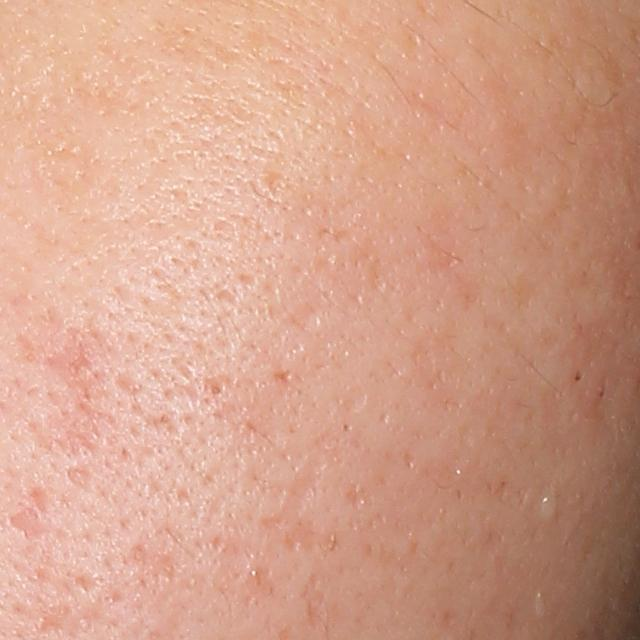atrophic_scar: (259, 429, 341, 560), (298, 569, 331, 635), (7, 506, 55, 543), (288, 300, 327, 334), (64, 464, 99, 496), (350, 481, 371, 506)
